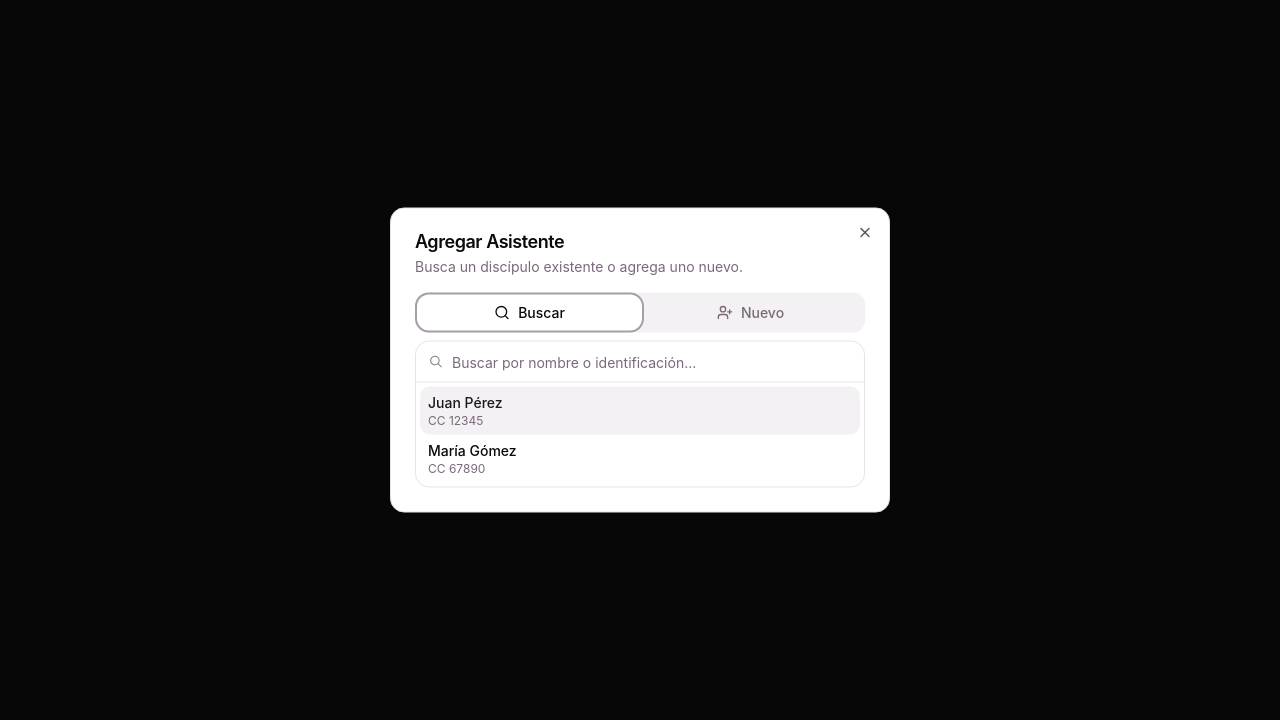
Test case: AddAttendeeModal › switches to create tab when clicking Nuevo
Click the tab "Nuevo" at (750, 312), box top-left (640, 296), bottom-right (861, 328)
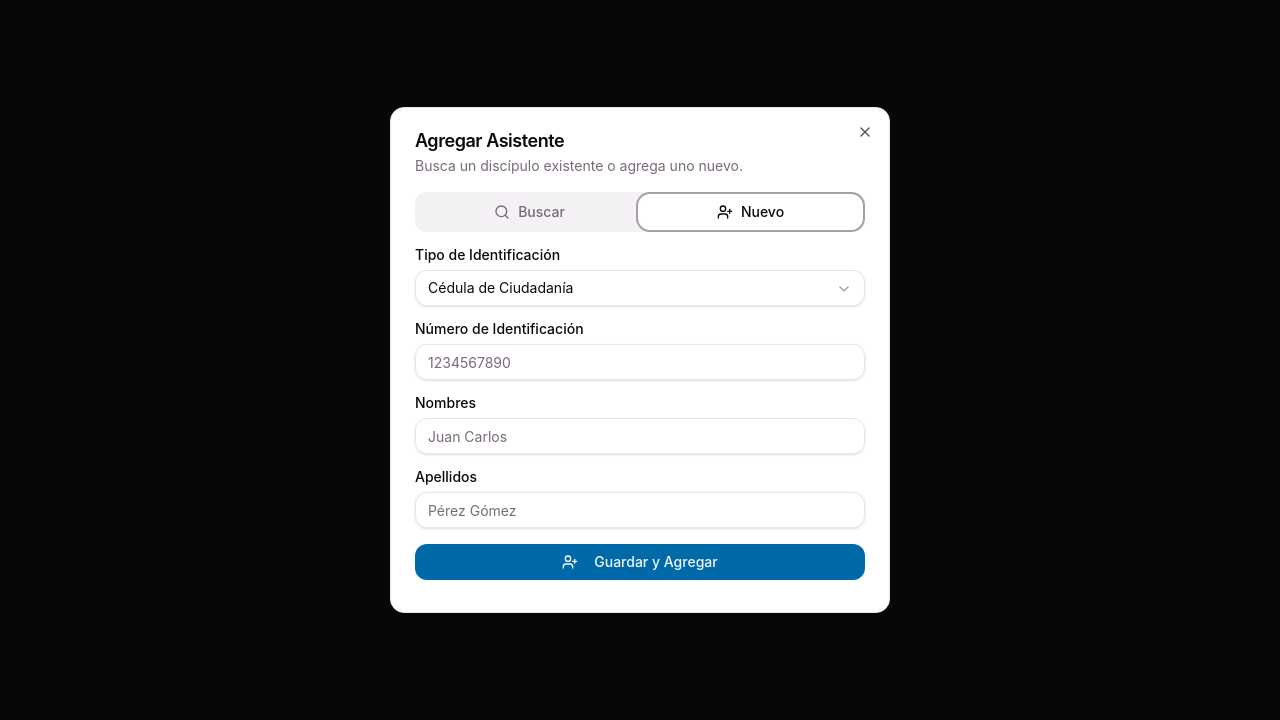
Check: the button "Guardar y Agregar" is shown, box top-left (415, 544), bottom-right (865, 580)
